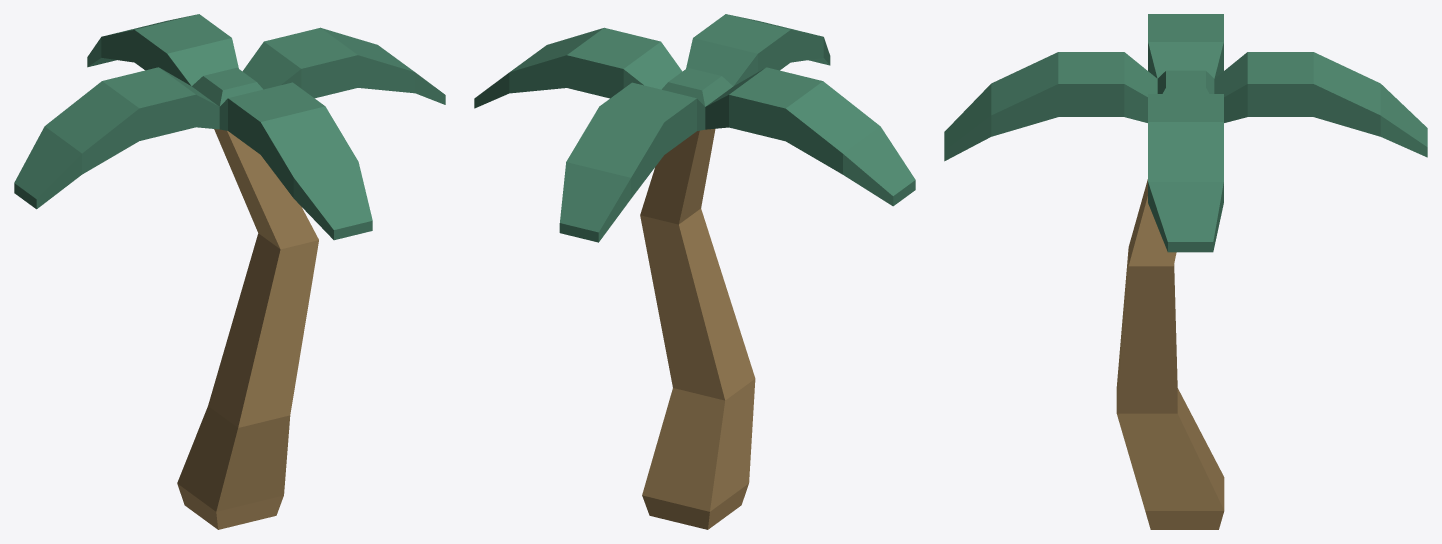
File: naturePack_061.fbx
The picture shows the model from 3 angles, left to right: view 1: azimuth 30°, elevation 25°; view 2: azimuth 150°, elevation 25°; view 3: azimuth 270°, elevation 25°; orthographic projection.
Visible parts, largest first — view 1: Mesh2_Group3 Group1 Model, Mesh1_Group2 Group1 Model; view 2: Mesh2_Group3 Group1 Model, Mesh1_Group2 Group1 Model; view 3: Mesh2_Group3 Group1 Model, Mesh1_Group2 Group1 Model.
Part boxes in pixels (x1,y1,x2,y2): Mesh2_Group3 Group1 Model: [14, 14, 445, 240]; Mesh1_Group2 Group1 Model: [177, 129, 318, 529]; Mesh2_Group3 Group1 Model: [474, 14, 915, 242]; Mesh1_Group2 Group1 Model: [640, 128, 755, 529]; Mesh2_Group3 Group1 Model: [944, 14, 1427, 252]; Mesh1_Group2 Group1 Model: [1116, 179, 1224, 529].
Bounding box in the file's own units: 3.18 × 3.25 × 3.18.
